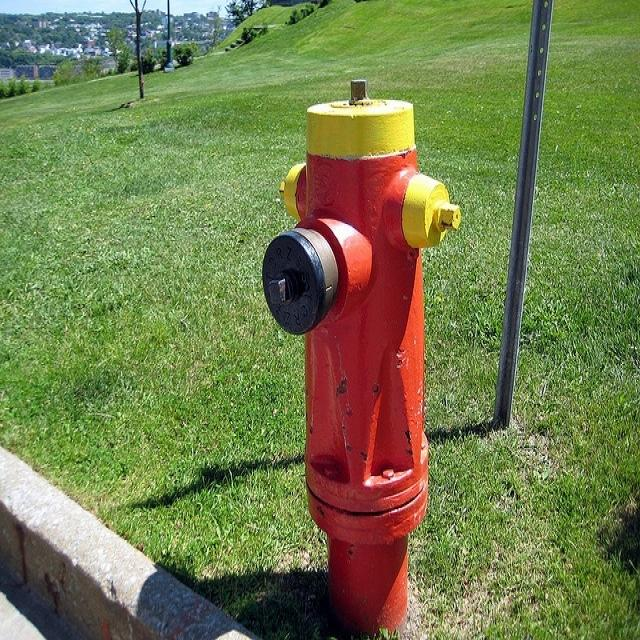fire_hydrant: (229, 25, 482, 639)
